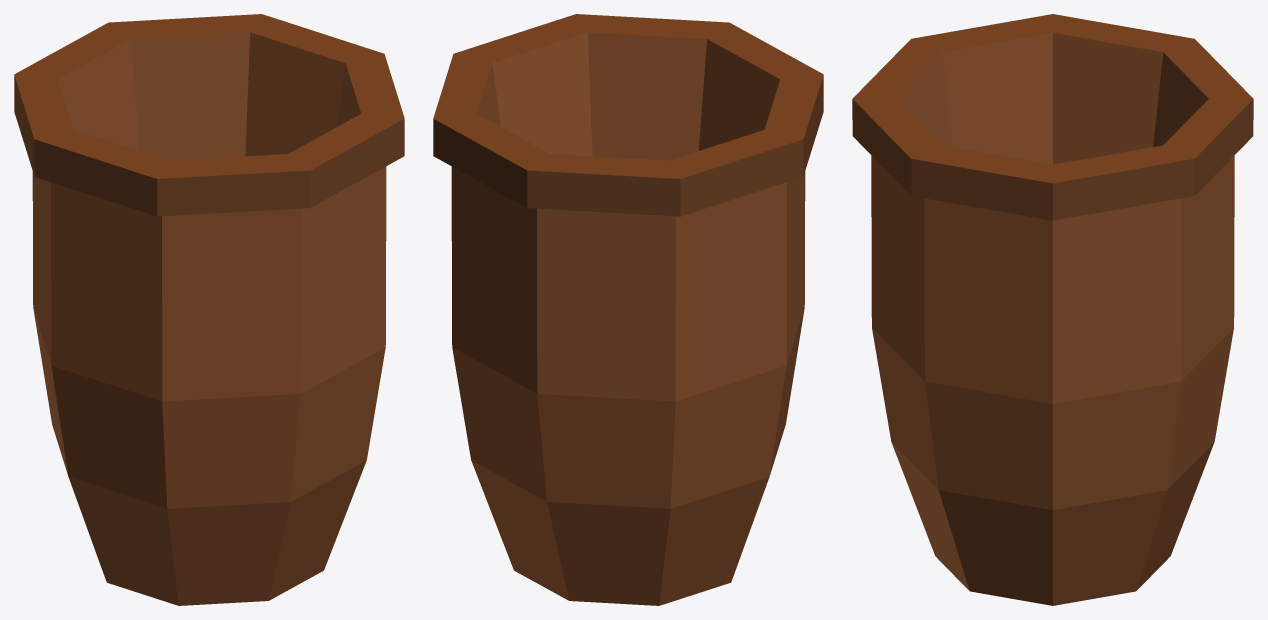
The model's file is pot_3.fbx.
3 views of the same model, side by side, from view 1: azimuth 30°, elevation 25°; view 2: azimuth 150°, elevation 25°; view 3: azimuth 270°, elevation 25° (orthographic).
Parts seen in each view (by area): view 1: pot_3; view 2: pot_3; view 3: pot_3.
Boxes of the visible parts, left/top/right/bottom form: pot_3: left=14, top=14, right=404, bottom=605; pot_3: left=433, top=14, right=823, bottom=605; pot_3: left=852, top=14, right=1253, bottom=605.
Bounding box in the file's own units: 35.87 × 45.14 × 35.87.
